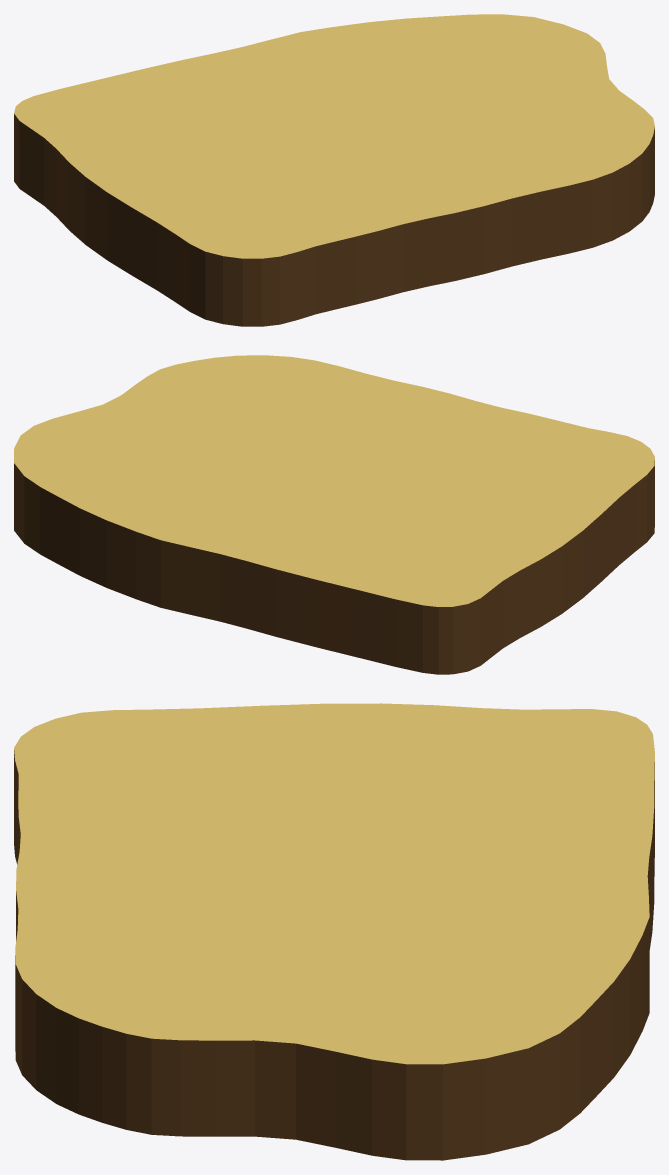
Rendered from Ground2.fbx.
The picture shows the model from 3 angles, top to bottom: view 1: azimuth 30°, elevation 25°; view 2: azimuth 150°, elevation 25°; view 3: azimuth 270°, elevation 25°; orthographic projection. The views are drawn at different scales.
Visible parts, largest first — view 1: Cylinder; view 2: Cylinder; view 3: Cylinder.
Part boxes in pixels (x1,y1,x2,y2): Cylinder: (14, 14, 654, 326); Cylinder: (14, 355, 654, 674); Cylinder: (14, 703, 654, 1160).
Bounding box in the file's own units: 494 × 61.42 × 371.
